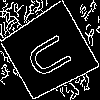U: (24, 27, 82, 82)
